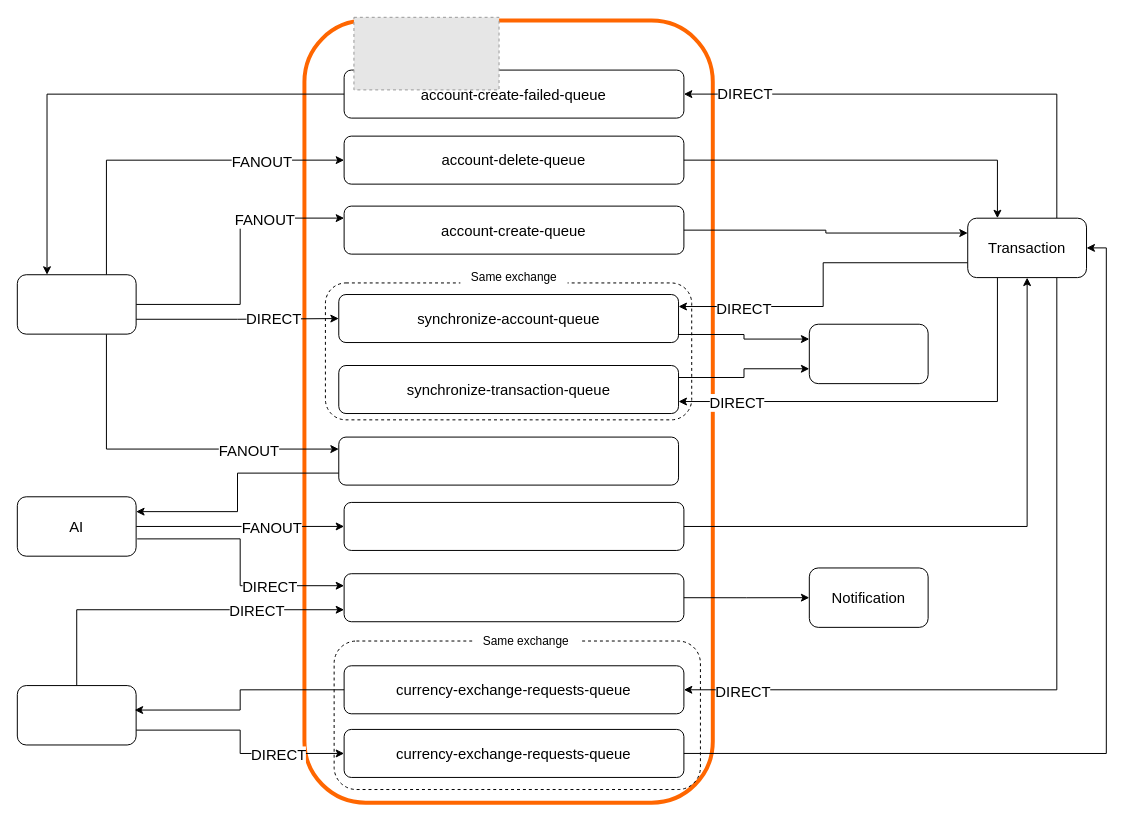
This 1132x822 diagram has some shape labels left out. Grey dashed boxes stand in for pictures. The box of each missing label's shape, as (x1, y1, x2, y2) in pixels:
Account service: (16, 274, 136, 334)
ai-transaction-queue: (338, 436, 679, 485)
check-fraud: (343, 501, 684, 550)
Currency: (16, 685, 136, 745)
notification-queue: (343, 573, 684, 622)
Synchronize: (808, 323, 928, 384)
